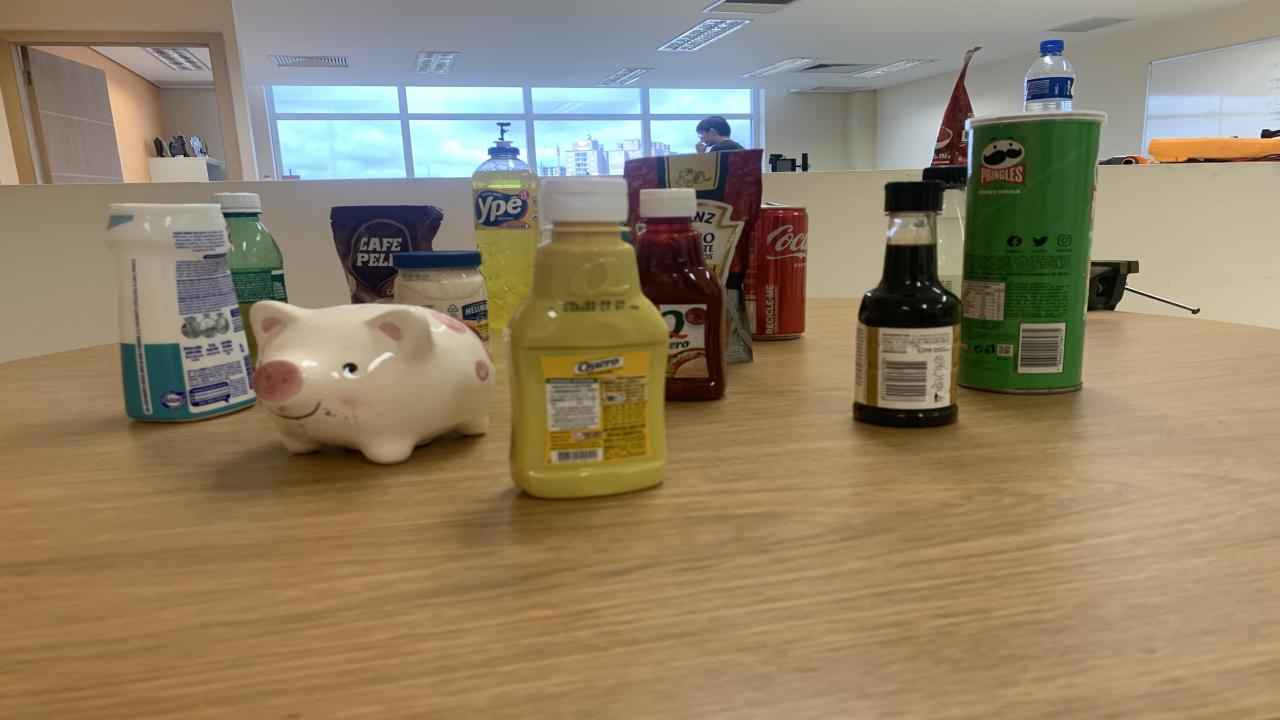Cleaner-Cleanup_Items: (105, 204, 255, 422)
Coffee-Pantry_Items: (330, 206, 442, 304)
Coke-Drinks: (745, 204, 808, 339)
Detergent-Cleanup_Items: (472, 139, 542, 330)
English_Sauce-Pantry_Items: (852, 182, 962, 428)
Guarana-Drinks: (212, 191, 288, 366)
Ketchup-Pantry_Items: (638, 188, 725, 401)
Mayonnaise-Pantry_Items: (392, 251, 490, 345)
Mustard-Pantry_Items: (508, 176, 670, 499)
Pig_Safe-Miscellaneous: (250, 300, 495, 463)
Pringles-Snacks: (958, 111, 1105, 392)
Tomato_Sauce-Pantry_Items: (625, 150, 762, 364), (930, 47, 980, 167)
Water_Bottle-Drinks: (1025, 39, 1075, 112)
